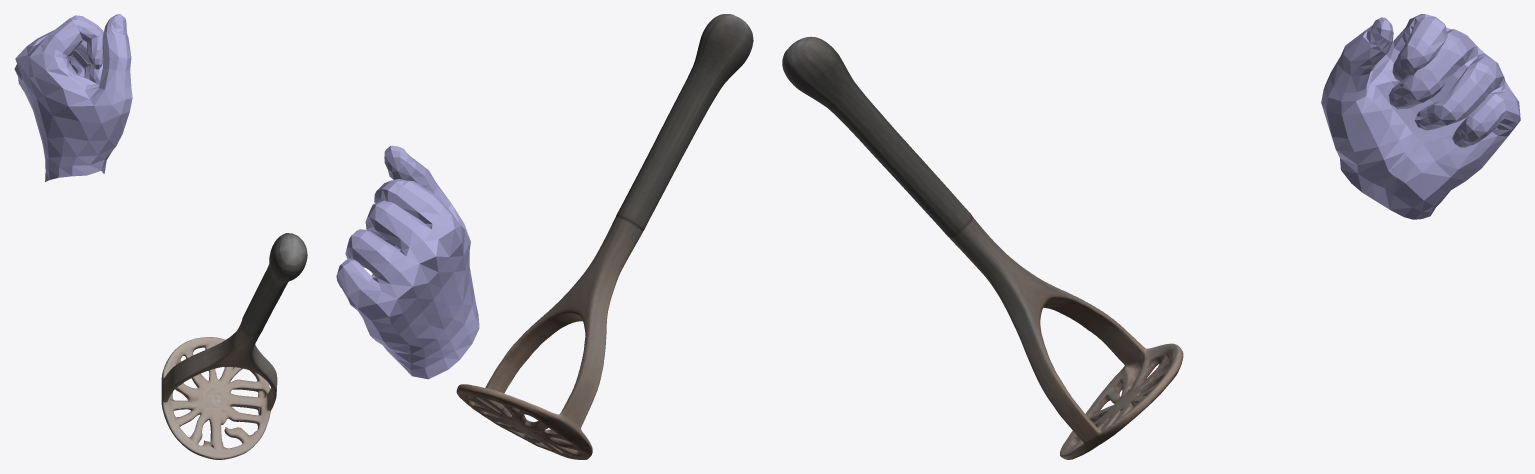
The model's file is frame_0052_source_000052_hand_object.glb.
The picture shows the model from 3 angles, left to right: view 1: azimuth 30°, elevation 25°; view 2: azimuth 150°, elevation 25°; view 3: azimuth 270°, elevation 25°; orthographic projection. The views are drawn at different scales.
Visible parts, largest first — view 1: world; view 2: world; view 3: world.
Part boxes in pixels (left/top/right/bottom): world: left=14, top=14, right=307, bottom=459; world: left=336, top=14, right=753, bottom=459; world: left=782, top=14, right=1520, bottom=459.
Bounding box in the file's own units: 0.0856 × 0.2461 × 0.373.
